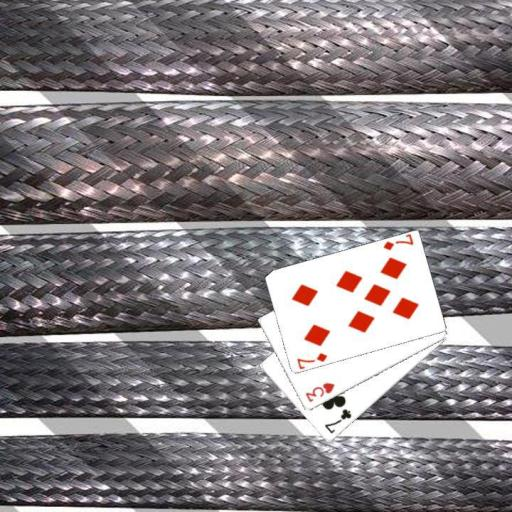3H: (302, 380, 336, 404)
7C: (322, 406, 354, 435)
7D: (294, 350, 329, 370), (380, 233, 415, 252)
